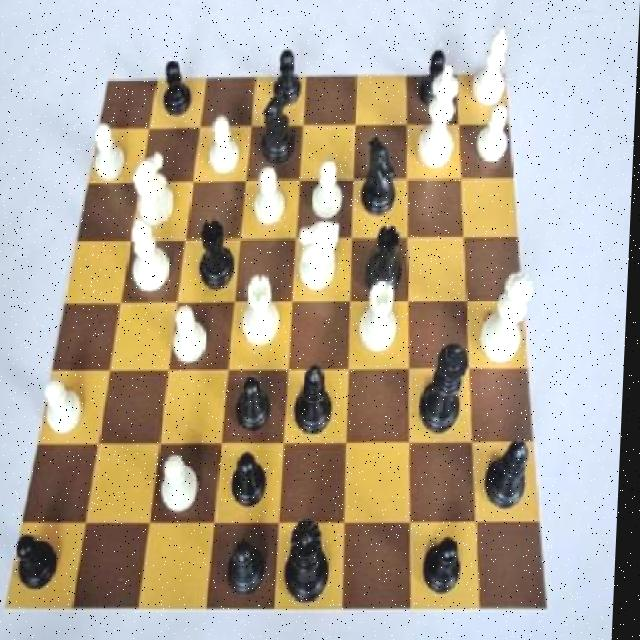bishop: (483, 425, 540, 519), (291, 358, 346, 441)
black-bishop: (412, 331, 475, 446)
black-king: (354, 128, 411, 223), (254, 91, 305, 170)
black-knight: (11, 526, 66, 599), (422, 530, 474, 602), (224, 532, 276, 601), (234, 362, 281, 436), (232, 446, 280, 510), (415, 40, 458, 108), (154, 55, 198, 121), (269, 44, 311, 109)
black-pawn: (280, 508, 346, 610)
black-queen: (194, 202, 244, 296), (362, 212, 412, 296)
black-rook: (467, 19, 521, 110), (125, 215, 180, 297)
white-bishop: (415, 57, 470, 174)
white-king: (127, 148, 185, 232), (294, 208, 348, 296)
white-knight: (34, 369, 97, 443), (156, 448, 212, 524), (167, 296, 217, 372), (306, 150, 355, 224), (468, 100, 519, 171), (246, 160, 294, 232), (201, 111, 248, 184), (89, 122, 135, 186)
white-pawn: (478, 258, 544, 372)
white-queen: (355, 272, 410, 360), (240, 266, 288, 353)
